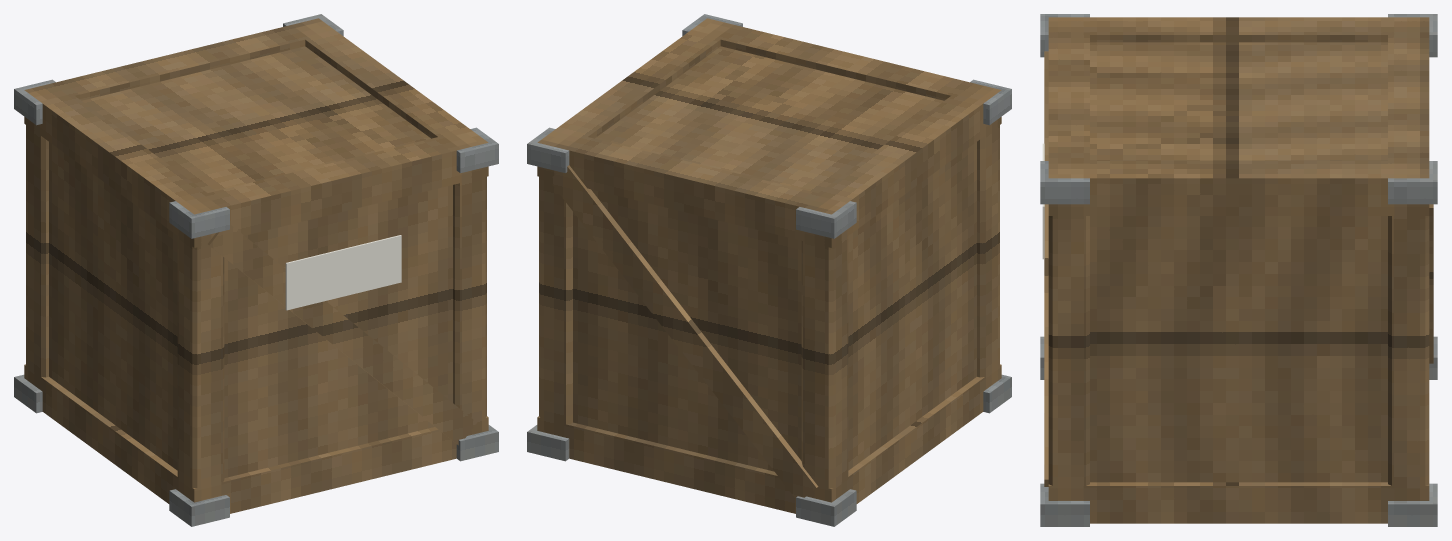
The model's file is crate_wood.glb.
3 views of the same model, side by side, from view 1: azimuth 30°, elevation 25°; view 2: azimuth 150°, elevation 25°; view 3: azimuth 270°, elevation 25° (orthographic). The views are drawn at different scales.
Visible parts, largest first — view 1: body; view 2: body; view 3: body.
Boxes of the visible parts, left/top/right/bottom form: body: left=14, top=14, right=498, bottom=526; body: left=527, top=14, right=1011, bottom=526; body: left=1040, top=14, right=1437, bottom=526.
Size of the model in its own units: 0.96 by 0.92 by 0.96.
3 materials, 2 textured.
